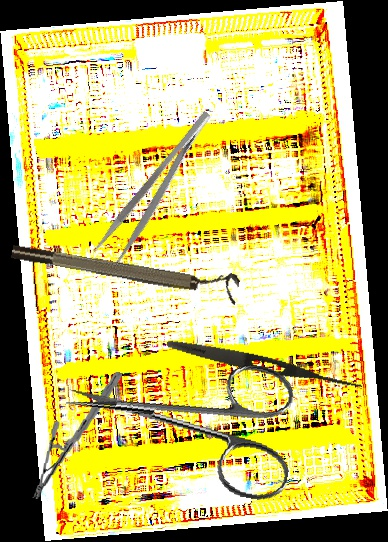Dressing Forceps: (90, 107, 227, 270), (165, 335, 364, 394)
Fixation Ring: (10, 231, 241, 306)
Iris Scissors: (55, 333, 306, 505)
Needle Holder: (32, 365, 123, 506)
